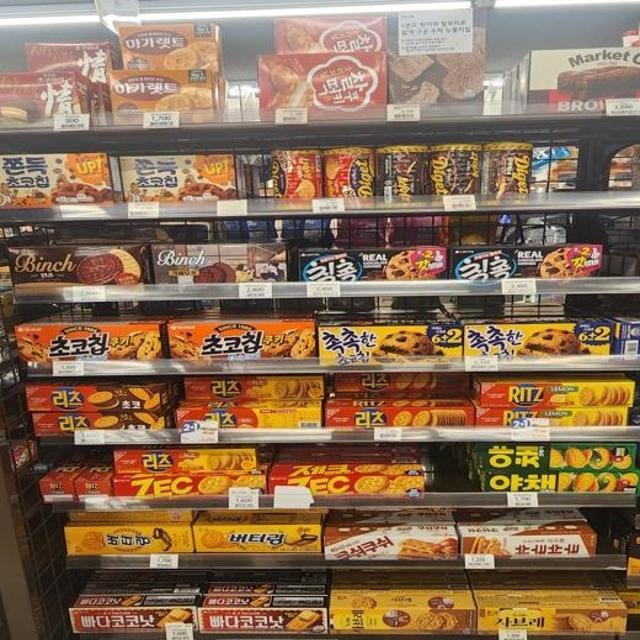product: (258, 57, 386, 122), (165, 313, 317, 364), (465, 318, 621, 367), (157, 237, 290, 292), (317, 319, 463, 369), (17, 325, 164, 372), (7, 244, 153, 290), (106, 67, 214, 127), (115, 149, 233, 203), (463, 522, 595, 569), (457, 245, 600, 285), (484, 442, 638, 479), (324, 521, 461, 562), (303, 249, 449, 286), (63, 524, 195, 560), (197, 521, 319, 556), (478, 603, 625, 632), (114, 471, 257, 500), (491, 472, 637, 500), (331, 605, 477, 633), (269, 473, 417, 500), (67, 605, 198, 635), (203, 609, 327, 639)
